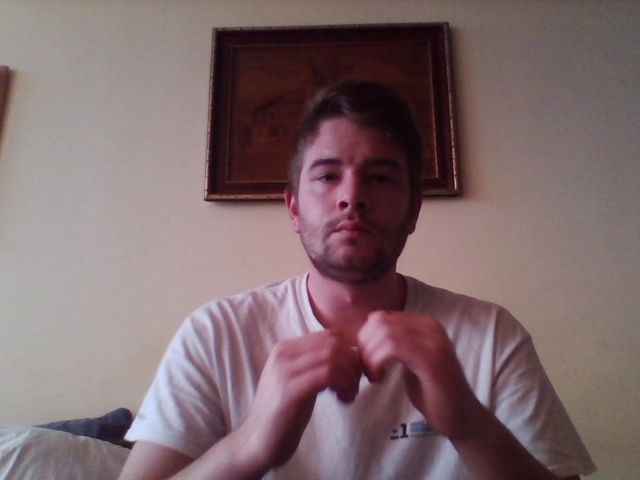kako: (245, 307, 485, 468)
